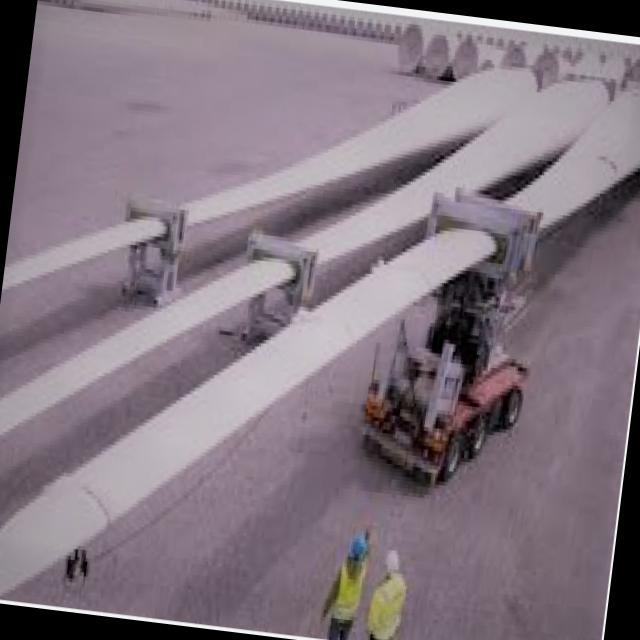hard_hat: (347, 531, 370, 566), (381, 545, 403, 578)
vest: (364, 571, 408, 640), (330, 554, 367, 626)
